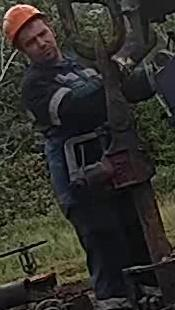helmet: (2, 3, 46, 45)
vest: (18, 58, 103, 175)
